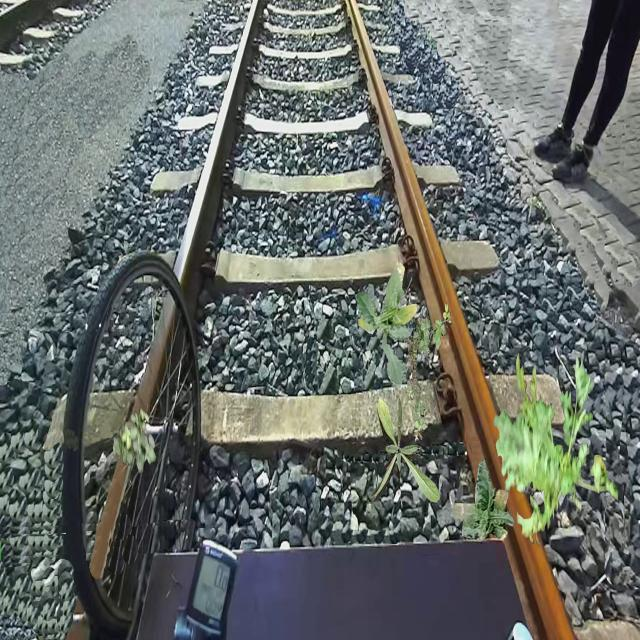Plant: (494, 351, 619, 547), (368, 397, 440, 505), (356, 262, 418, 386), (404, 304, 452, 442), (451, 458, 514, 541), (113, 407, 156, 474)
